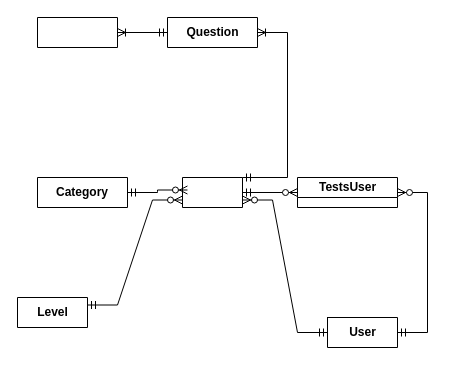
This 454x365 diagram has some shape labels left out. The shapes that lost their labels are listed below. From the top down, each one's centre as x and y in pixels, then its label:
point 77,32: Answer
point 212,192: Test
